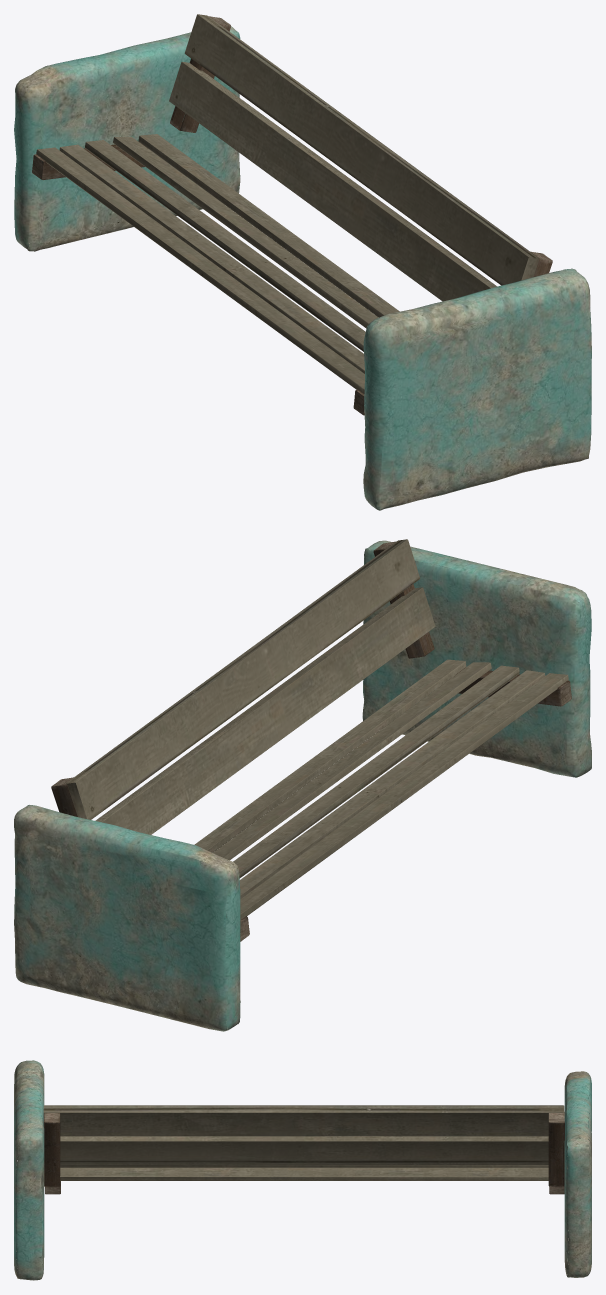
Rendered from bench_concrete.glb.
The picture shows the model from 3 angles, top to bottom: view 1: azimuth 30°, elevation 25°; view 2: azimuth 150°, elevation 25°; view 3: azimuth 270°, elevation 25°; orthographic projection. The views are drawn at different scales.
Parts seen in each view (by area): view 1: bench_concrete; view 2: bench_concrete; view 3: bench_concrete.
Part boxes in pixels (bbox=[...]): bench_concrete: bbox=[14, 14, 591, 510]; bench_concrete: bbox=[14, 539, 591, 1031]; bench_concrete: bbox=[14, 1060, 591, 1280].
Bounding box in the file's own units: 0.9586 × 0.8537 × 2.81.
Materials: 4 (4 with a texture image).
